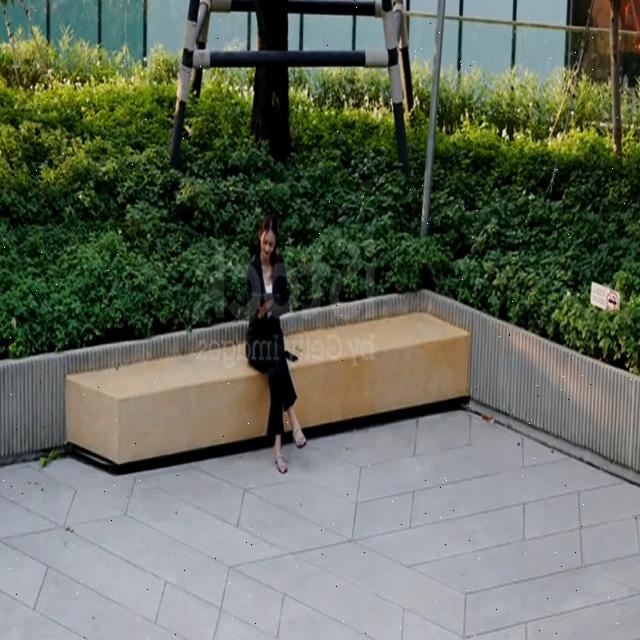sitting: (246, 215, 306, 473)
